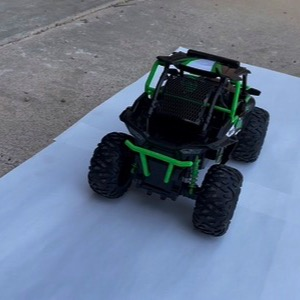polaris: (89, 49, 272, 240)
